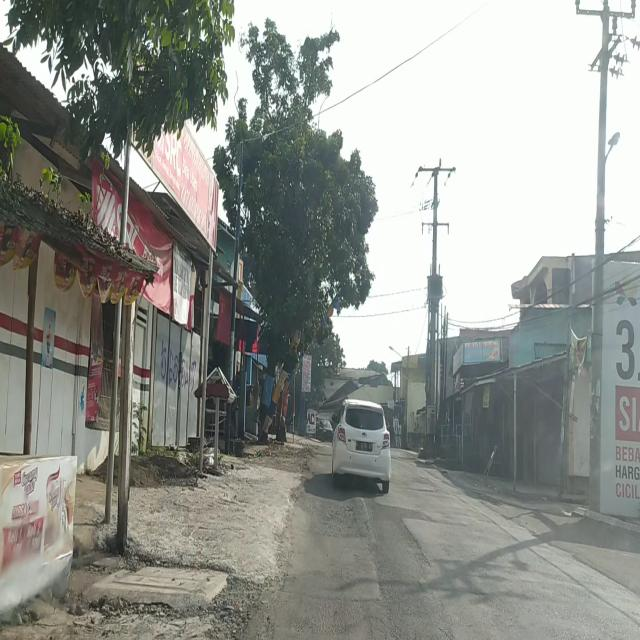Drain Hole: (321, 505, 361, 538)
